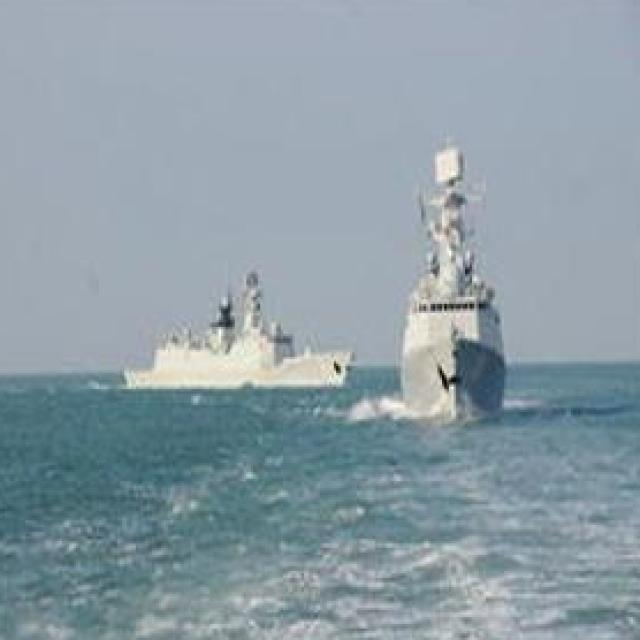navalvessels: (382, 141, 550, 427), (91, 242, 372, 397)
